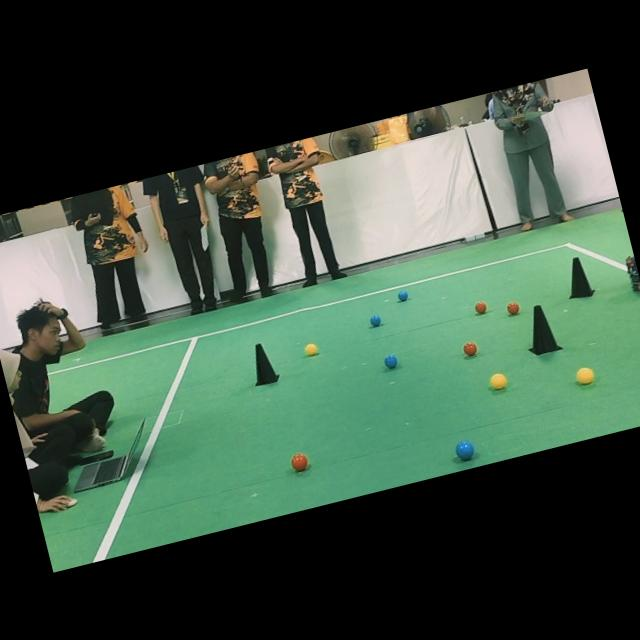ball: (455, 440, 474, 461), (290, 452, 308, 471), (576, 367, 594, 384), (490, 373, 507, 389), (462, 341, 478, 356), (506, 301, 520, 315), (474, 300, 487, 314), (384, 354, 397, 368), (304, 343, 318, 356), (370, 314, 381, 327), (397, 290, 408, 301)
